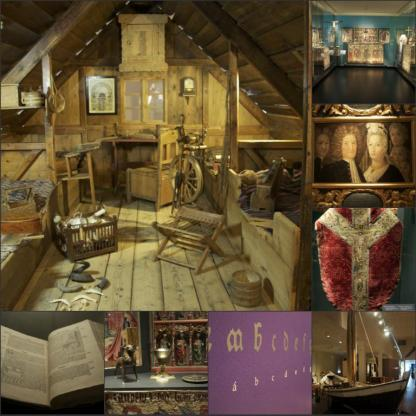book: (0, 319, 107, 415)
